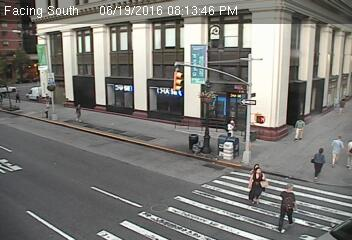neg: (5, 129, 45, 181), (134, 110, 171, 159), (169, 44, 203, 89), (301, 36, 334, 80), (73, 137, 104, 178), (87, 19, 117, 60), (271, 40, 301, 80), (188, 186, 214, 222), (215, 51, 240, 84), (108, 78, 132, 110), (157, 181, 180, 210), (80, 203, 95, 225)
pos: (269, 181, 307, 231), (243, 167, 272, 205), (301, 145, 328, 181), (324, 134, 348, 166), (290, 115, 311, 143), (220, 117, 240, 144), (36, 96, 55, 122), (69, 101, 86, 124), (12, 88, 25, 106)
